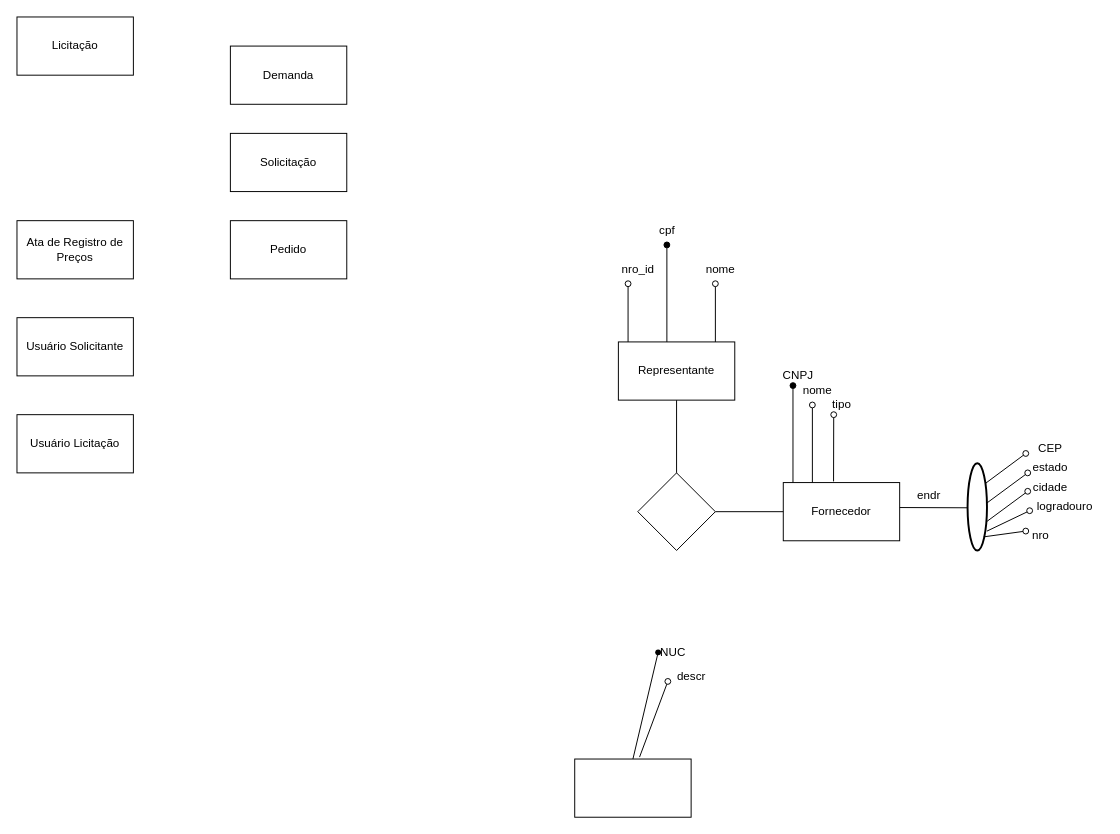
Image size: 1120x834. Some labels were removed from this diagram. The shapes that lost their labels are listed below. From the top down, each one's centre as x and y in pixels, then its label:
At [676,511]: "representa".
At [632,787]: "Item".
